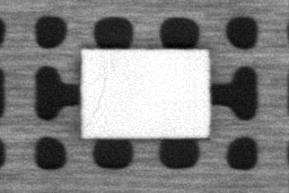DIE_CRACK: (86, 57, 110, 127)
